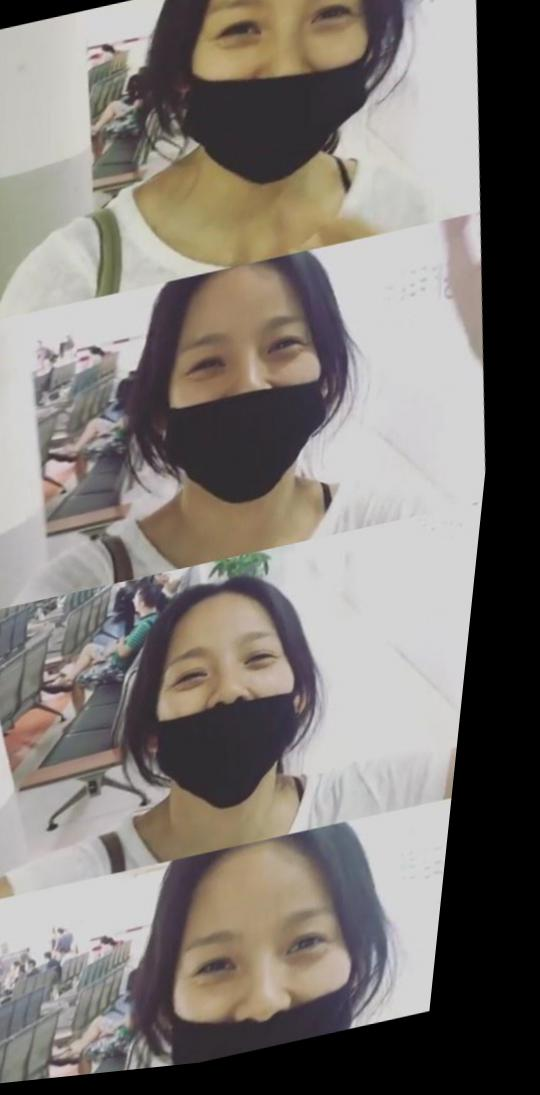WRONG: (142, 301, 354, 533), (174, 1, 401, 215), (171, 887, 398, 1074), (149, 612, 339, 832)
